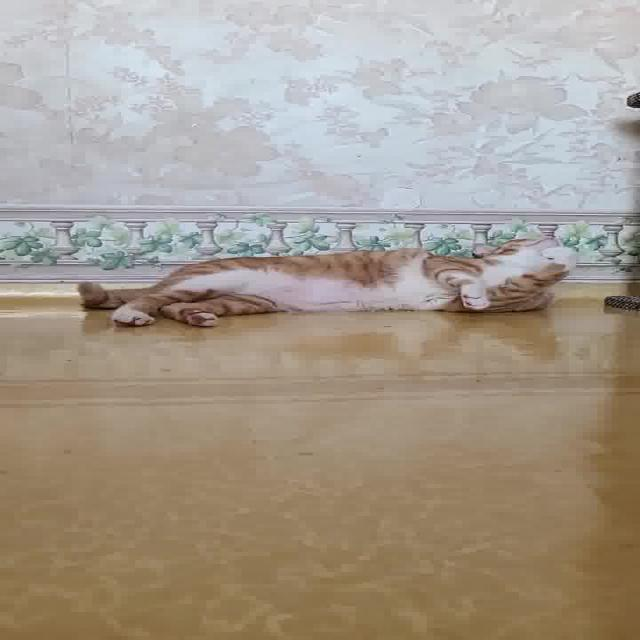cat: (47, 222, 600, 338)
